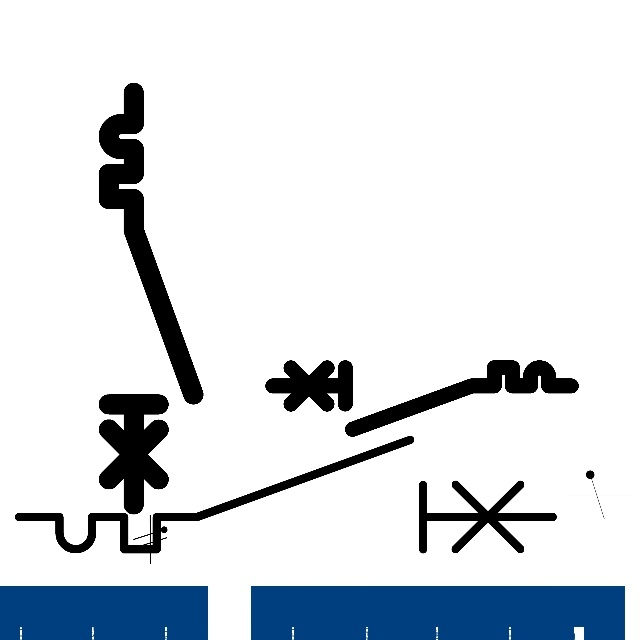interruptor_termomagnetico: (5, 426, 566, 563), (98, 82, 204, 515), (265, 360, 579, 437)
